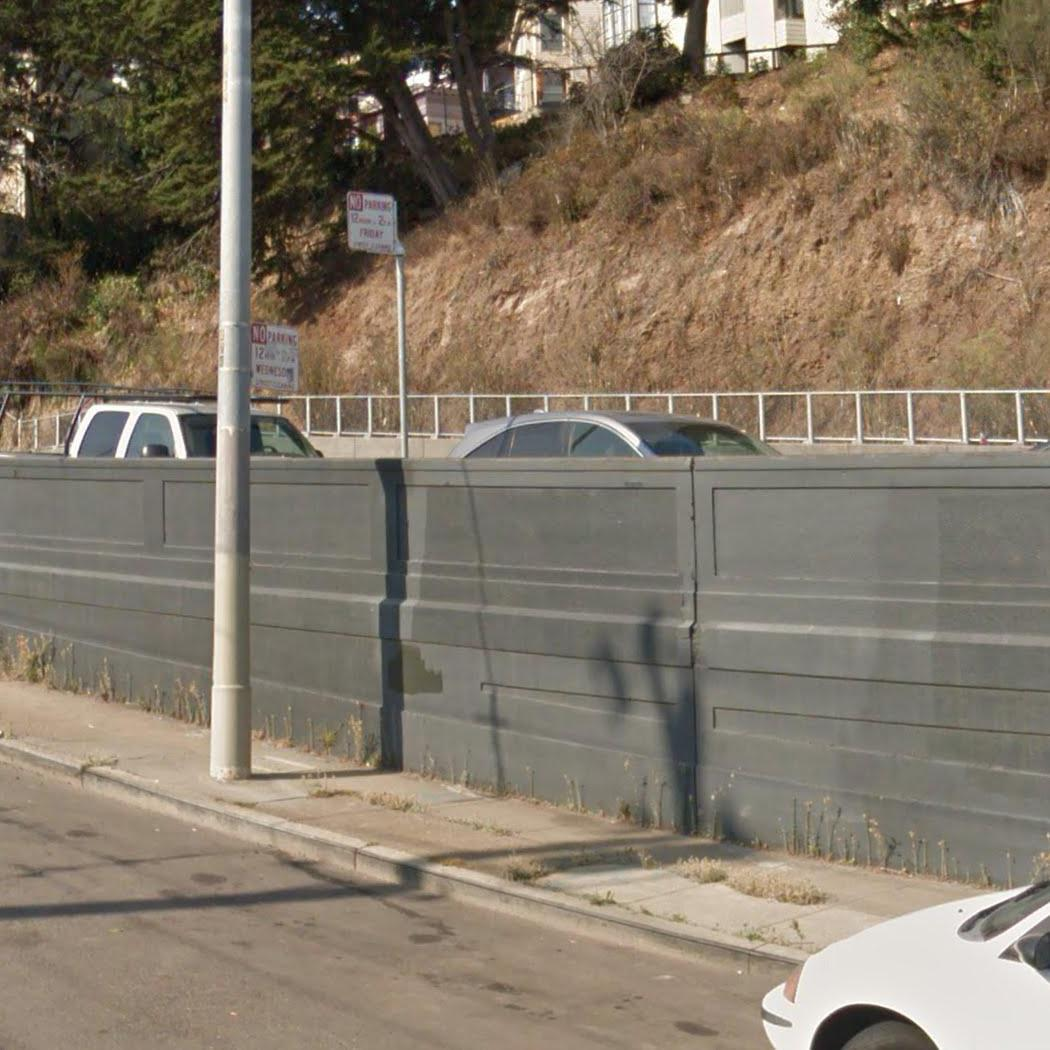No Parking: (248, 320, 315, 396), (337, 190, 407, 258)
